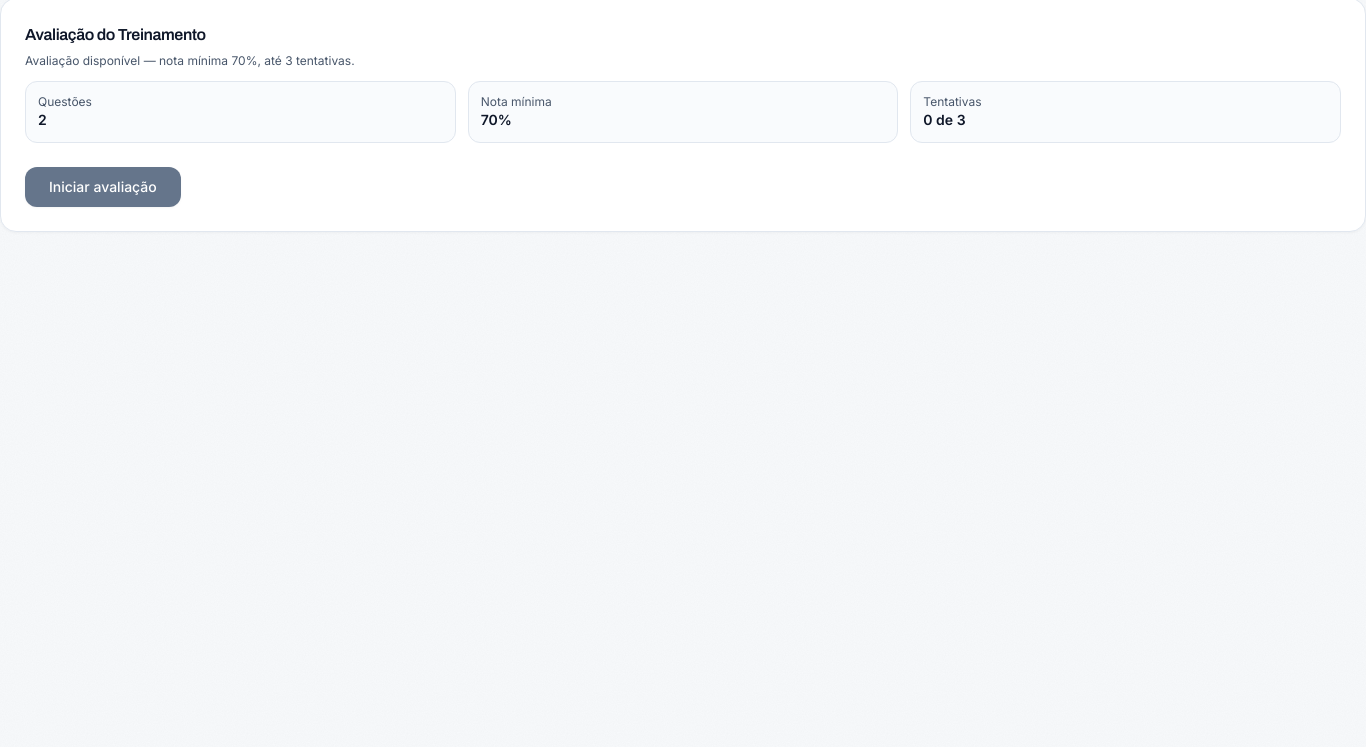
Test case: ETAPA 9.4 — QuizPlayer: Avaliação, Correção Server-Side e Gabarito › d) Após envio bem-sucedido: exibe nota, selo APROVADO e gabarito com explicações
Step 1. Click the button "Iniciar avaliação" → (103, 187), box [25,167,181,207]
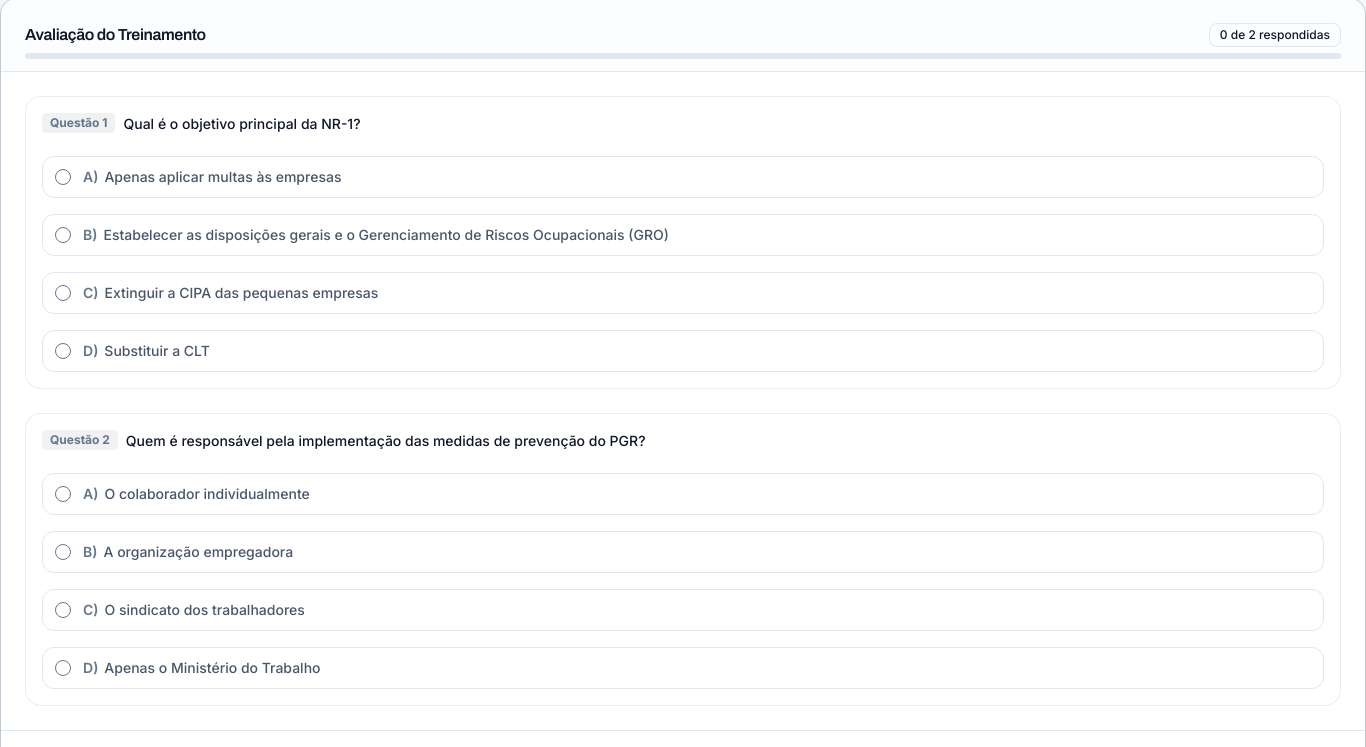
Now the text "Qual é o objetivo principal da NR-1?" is shown, box [124,113,361,136]
Step 2. Click the text "Estabelecer as disposições gerais e o Gerenciamento de Riscos" → (376, 234), box [83,226,669,243]
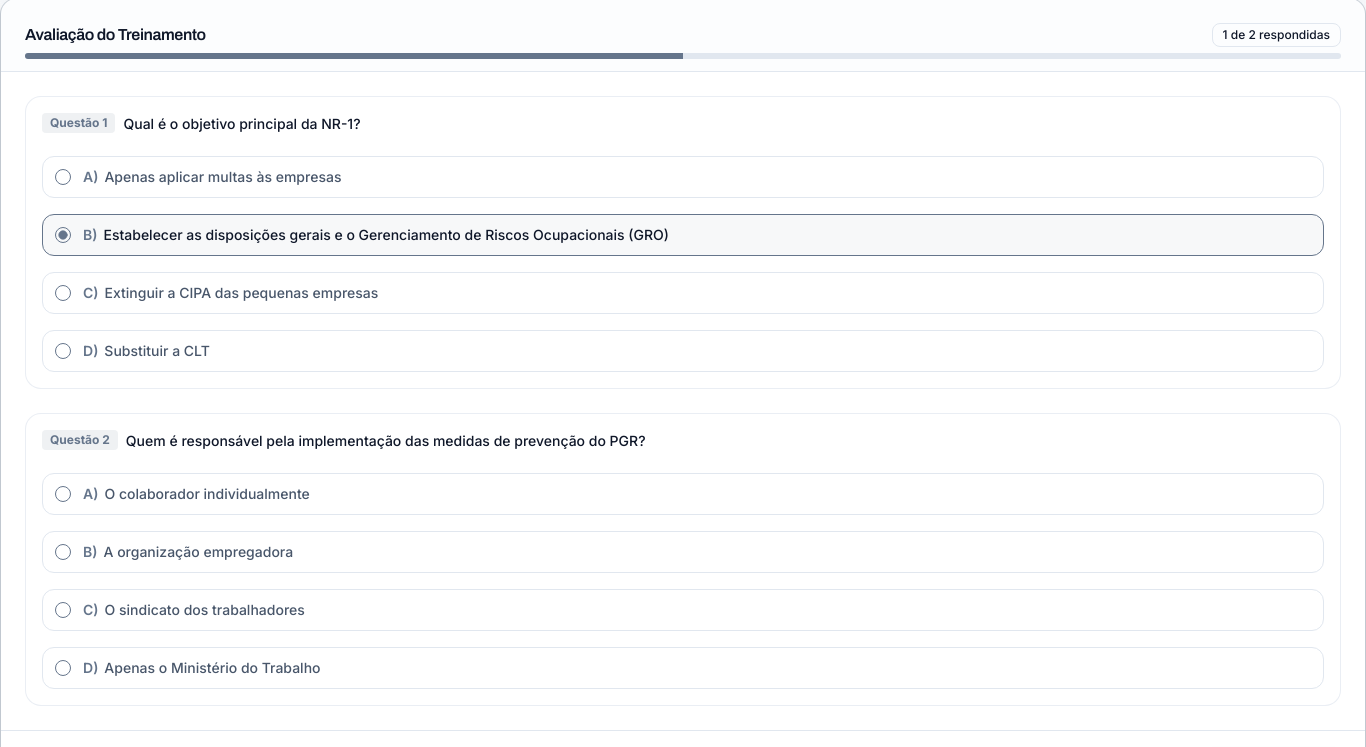
Step 3. Click the text "B)A organização empregadora" → (188, 551), box [83,542,293,560]
(page scrolled)
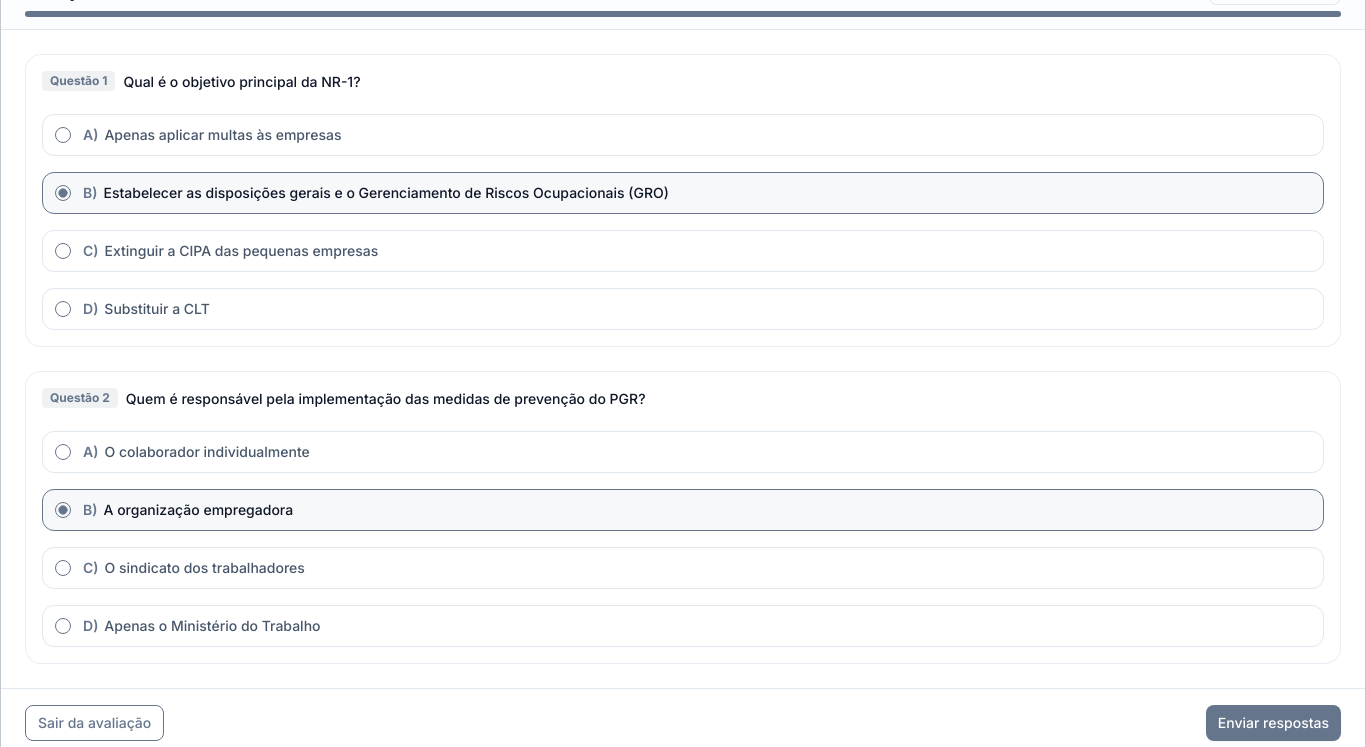
Step 4. Click the button "Enviar respostas" → (1273, 722), box [1206,704,1341,740]
(page scrolled)
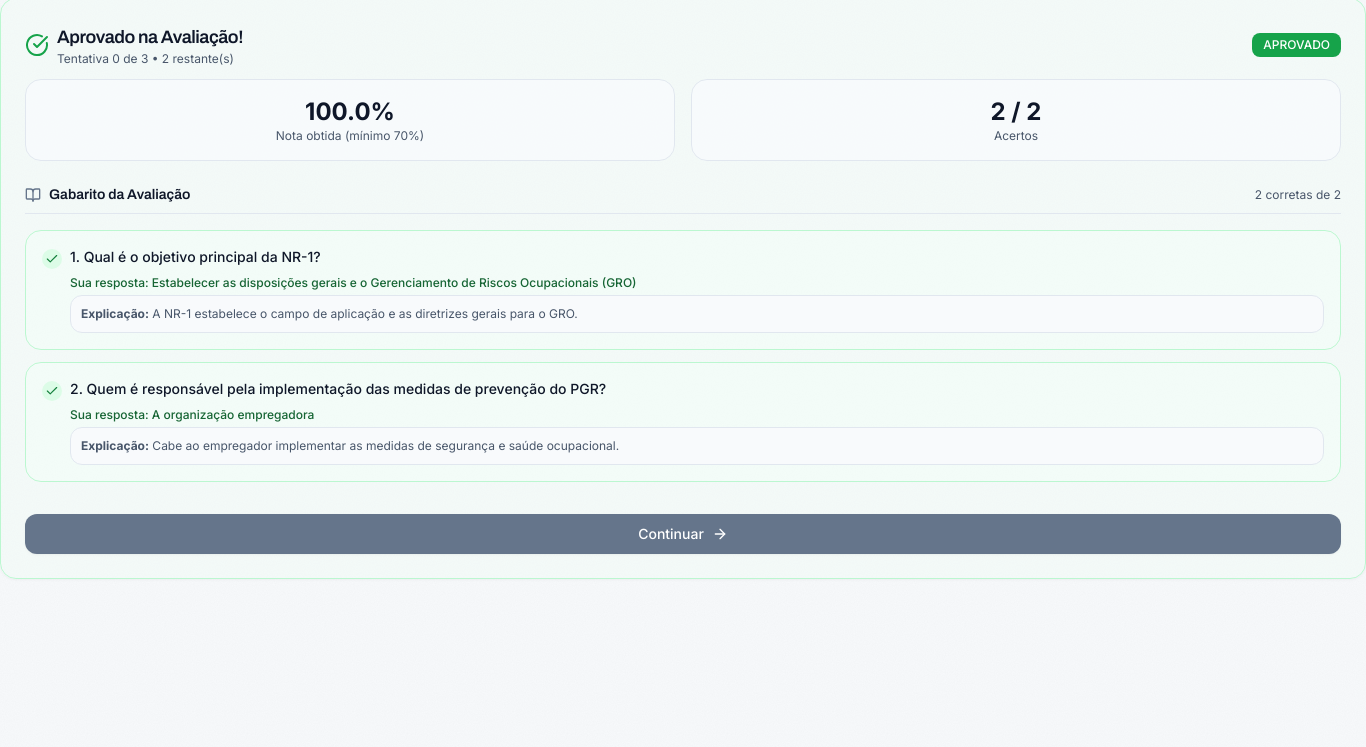
Now the heading "Aprovado na Avaliação!" is shown, box [57,23,243,51]
Now the text "100.0%" is shown, box [305,97,395,126]
Now the text "2 / 2" is shown, box [990,97,1041,126]
